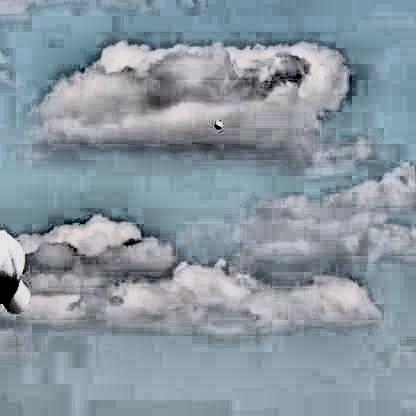golfball: (212, 118, 224, 131)
